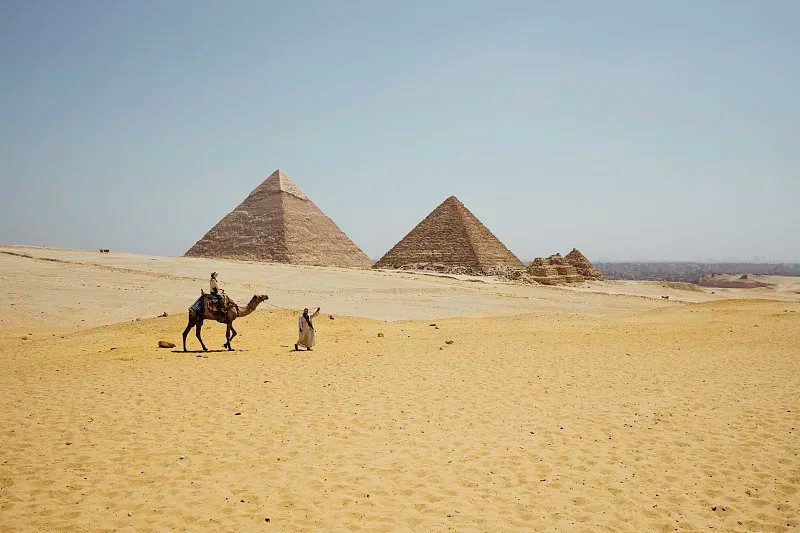Pyramid: (181, 170, 375, 270), (377, 197, 528, 276)
